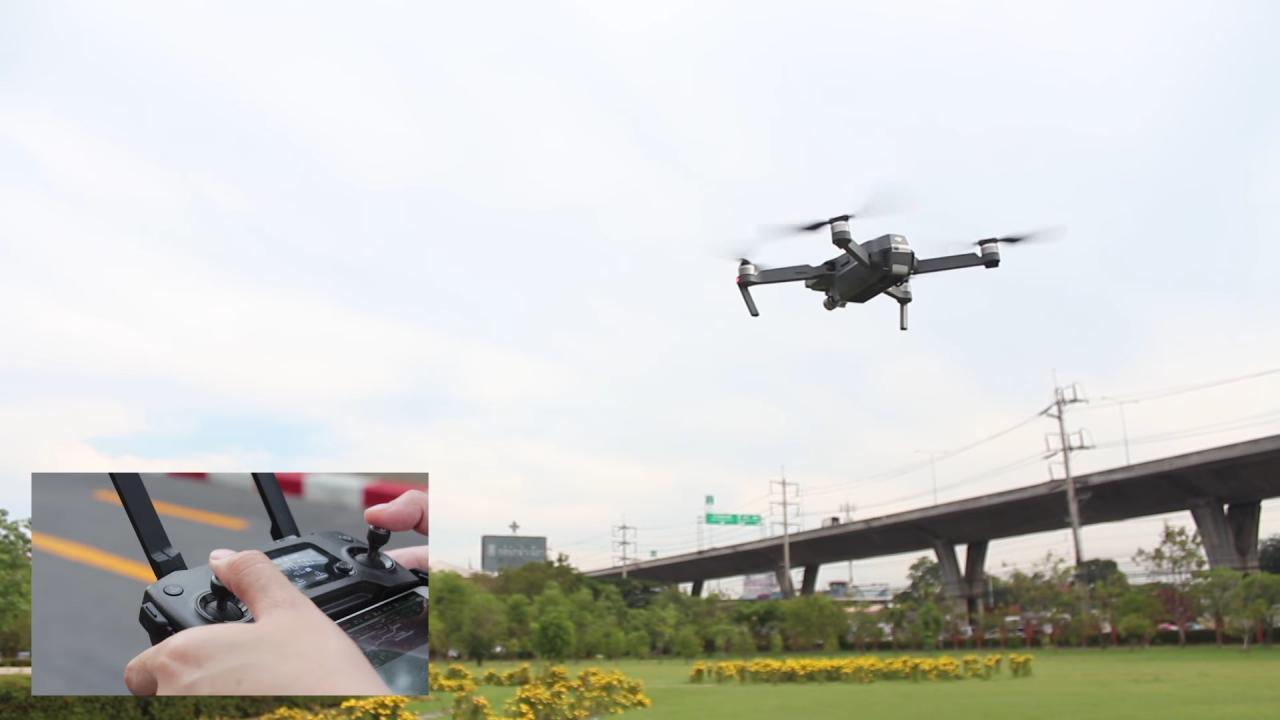Drone: (691, 175, 1078, 341)
